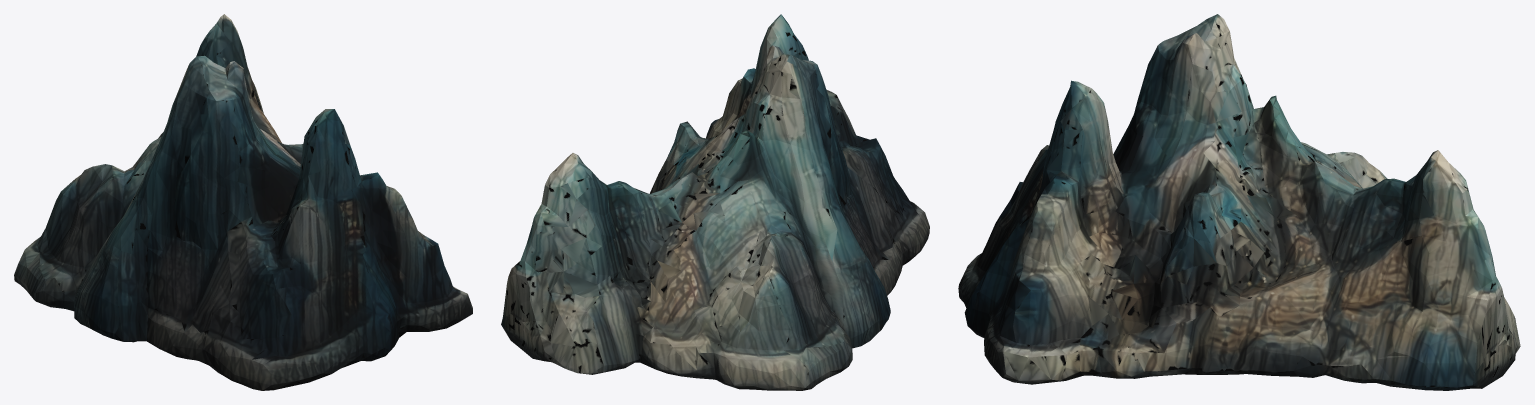
Rendered from rock_15.glb.
3 renders of one model, left to right at view 1: azimuth 30°, elevation 25°; view 2: azimuth 150°, elevation 25°; view 3: azimuth 270°, elevation 25°, orthographic. The views are drawn at different scales.
Visible parts, largest first — view 1: test (6); view 2: test (6); view 3: test (6).
Boxes of the visible parts, bbox=[...] form: test (6): bbox=[14, 14, 472, 390]; test (6): bbox=[501, 14, 929, 390]; test (6): bbox=[958, 14, 1520, 390].
Bounding box in the file's own units: 3.13 × 2.63 × 4.47.
1 material, 1 textured.
